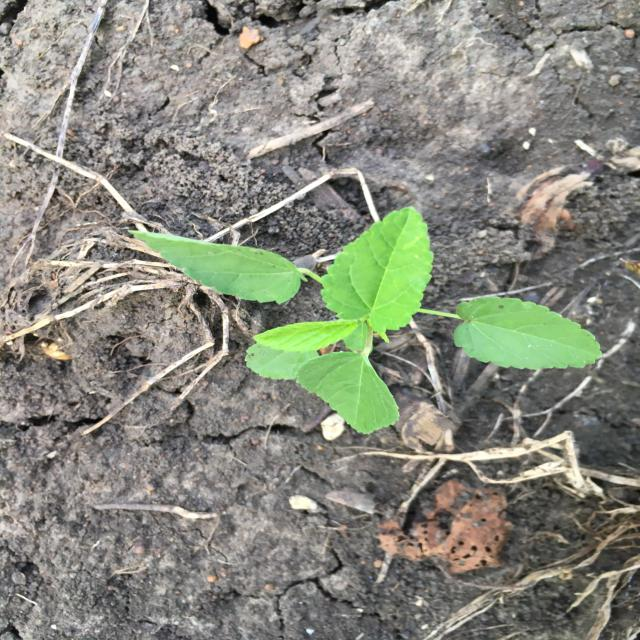PricklySida: (125, 204, 604, 435)
